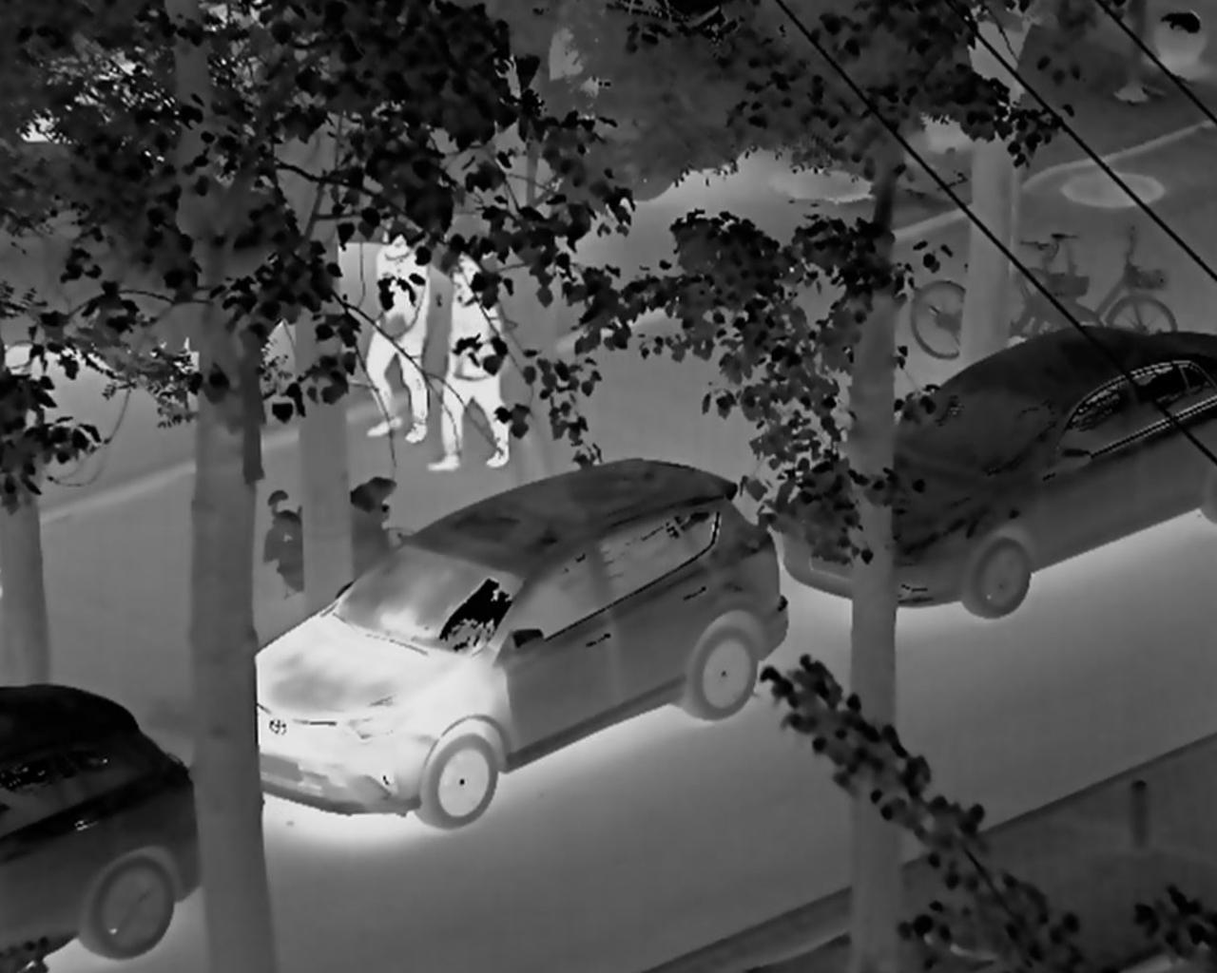person: (437, 233, 528, 480), (364, 213, 435, 456)
